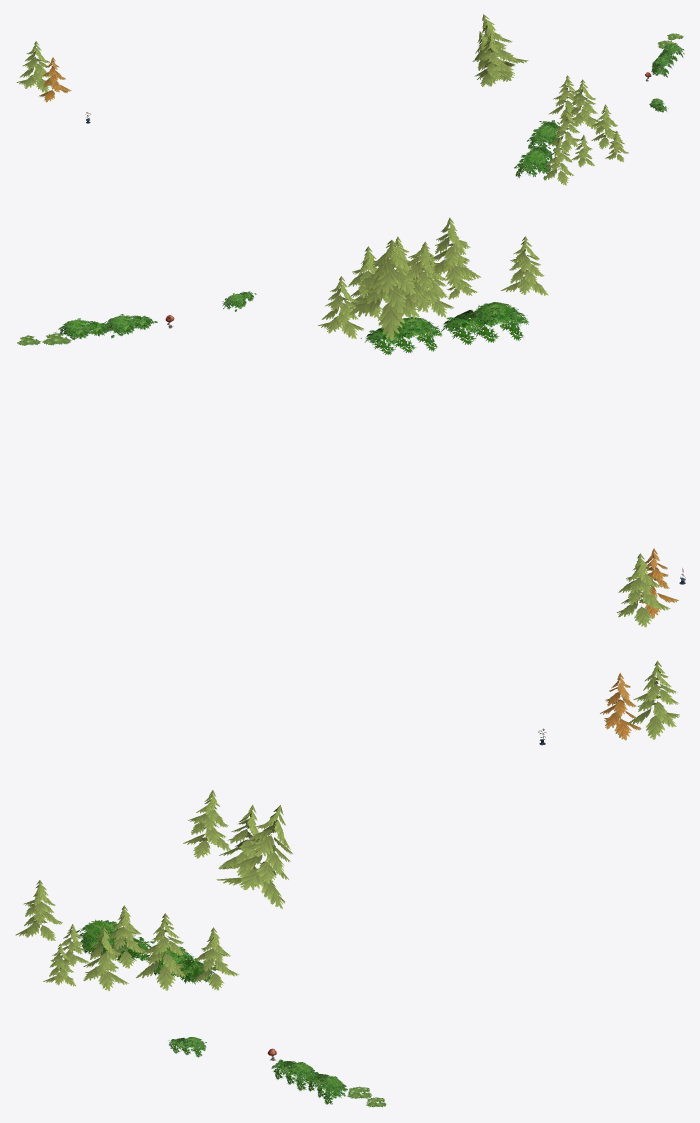
Rendered from zhibei14_1.fbx.
3 views of the same model, one above another, from view 1: azimuth 30°, elevation 25°; view 2: azimuth 150°, elevation 25°; view 3: azimuth 270°, elevation 25° (orthographic). The views are drawn at different scales.
Parts seen in each view (by area): view 1: zhibei14_1; view 2: zhibei14_1; view 3: zhibei14_1.
Boxes of the visible parts, box(x1,y1,x2,y2) form: zhibei14_1: box(16, 14, 684, 185); zhibei14_1: box(17, 217, 685, 627); zhibei14_1: box(15, 660, 679, 1107).
Bounding box in the file's own units: 7279 × 1412 × 5351.
